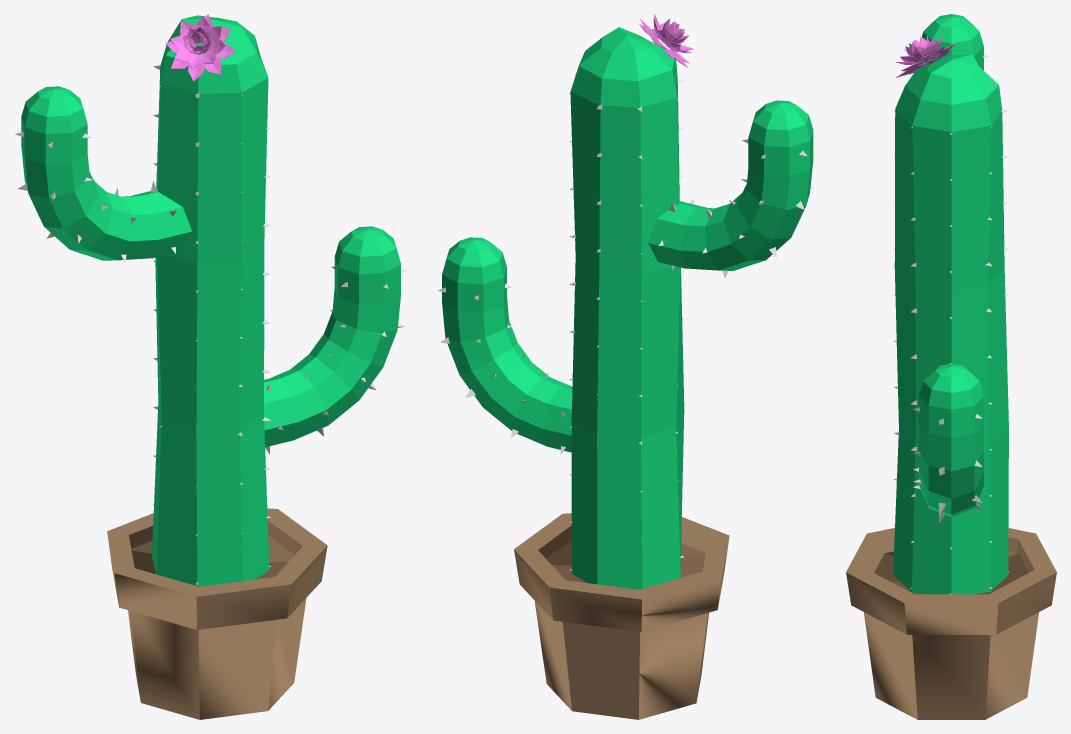
File: Cactus.fbx
3 views of the same model, side by side, from view 1: azimuth 30°, elevation 25°; view 2: azimuth 150°, elevation 25°; view 3: azimuth 270°, elevation 25° (orthographic). The views are drawn at different scales.
Visible parts, largest first — view 1: Capsule, Pot, Capsule_2, Capsule_1; view 2: Capsule, Pot, Capsule_1, Capsule_2; view 3: Capsule, Pot, Capsule_2, Capsule_1.
Part boxes in pixels (x1,y1,x2,y2): Capsule: (152, 15, 269, 586); Pot: (107, 508, 327, 719); Capsule_2: (264, 226, 400, 447); Capsule_1: (21, 86, 191, 260); Capsule: (570, 27, 684, 589); Pot: (514, 513, 729, 719); Capsule_1: (648, 100, 813, 270); Capsule_2: (442, 237, 572, 452); Capsule: (893, 54, 1008, 594); Pot: (846, 528, 1056, 719); Capsule_2: (919, 363, 983, 517); Capsule_1: (919, 14, 983, 70).
Bounding box in the file's own units: 410 × 700 × 208.
